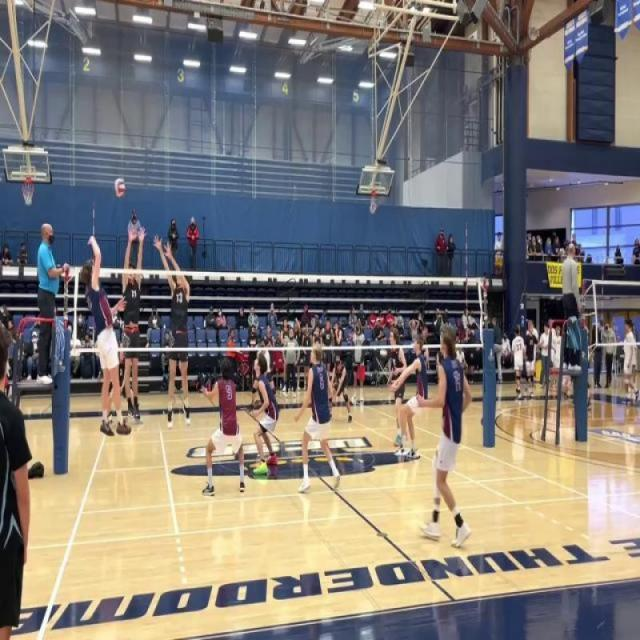volleyball: (113, 176, 126, 199)
